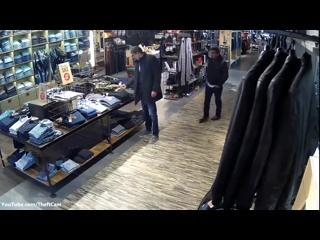Normal: (197, 43, 319, 208), (117, 46, 163, 144), (199, 47, 229, 123)
